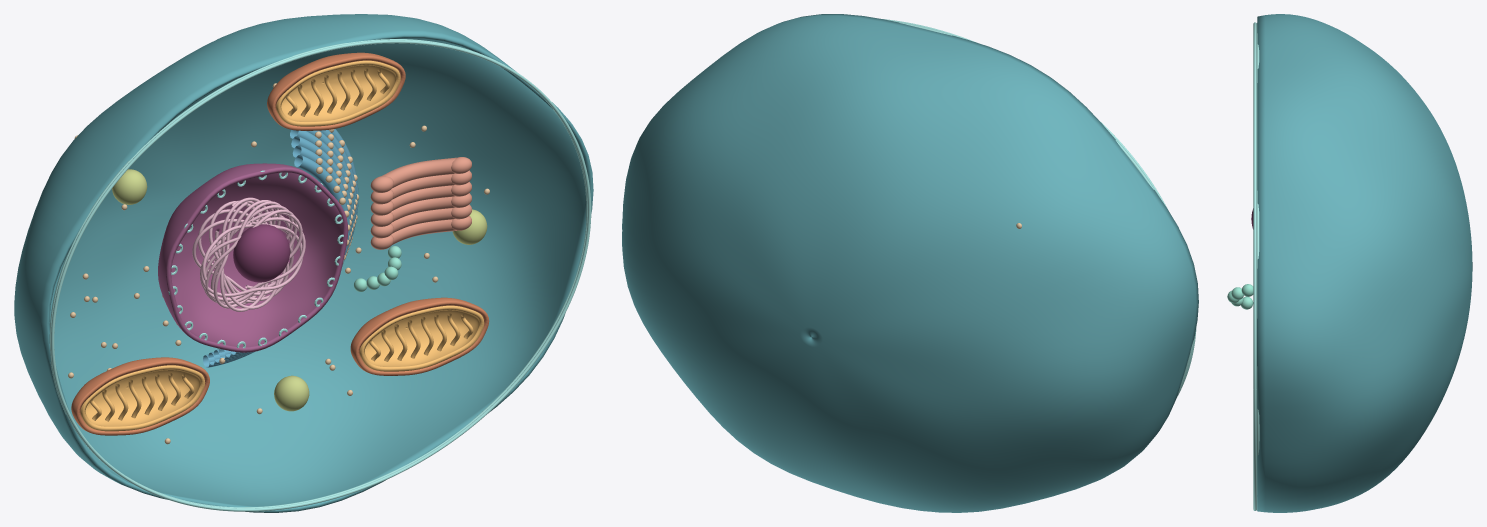
The model's file is cell.glb.
3 renders of one model, left to right at view 1: azimuth 30°, elevation 25°; view 2: azimuth 150°, elevation 25°; view 3: azimuth 270°, elevation 25°, orthographic. The views are drawn at different scales.
Visible parts, largest first — view 1: Cell membrane cutaway, Nuclear envelope cutaway, Lipid bilayer cut rim.001, Mitochondrion inner membrane.001, Mitochondrion inner membrane, Mitochondrion inner membrane.002, Lipid bilayer cut rim, Nucleolus, Mitochondrion outer membrane.001, Mitochondrion outer membrane.002, Mitochondrion outer membrane, Chromatin strand.001 (+15 smaller); view 2: Cell membrane cutaway; view 3: Cell membrane cutaway, Lipid bilayer cut rim.001, Lipid bilayer cut rim.
Boxes of the visible parts, x1=… form: Cell membrane cutaway: x1=14, y1=14, x2=593, y2=512; Nuclear envelope cutaway: x1=158, y1=163, x2=348, y2=352; Lipid bilayer cut rim.001: x1=51, y1=40, x2=591, y2=511; Mitochondrion inner membrane.001: x1=80, y1=365, x2=205, y2=431; Mitochondrion inner membrane: x1=359, y1=305, x2=484, y2=371; Mitochondrion inner membrane.002: x1=276, y1=60, x2=400, y2=126; Lipid bilayer cut rim: x1=49, y1=39, x2=587, y2=508; Nucleolus: x1=233, y1=224, x2=290, y2=282; Mitochondrion outer membrane.001: x1=71, y1=357, x2=209, y2=435; Mitochondrion outer membrane.002: x1=267, y1=52, x2=405, y2=130; Mitochondrion outer membrane: x1=350, y1=297, x2=489, y2=375; Chromatin strand.001: x1=205, y1=201, x2=305, y2=302; Cell membrane cutaway: x1=622, y1=14, x2=1198, y2=512; Cell membrane cutaway: x1=1257, y1=14, x2=1472, y2=512; Lipid bilayer cut rim.001: x1=1253, y1=22, x2=1256, y2=510; Lipid bilayer cut rim: x1=1256, y1=23, x2=1259, y2=510.
Size of the model in its own units: 9.19 by 7.33 by 3.78.
